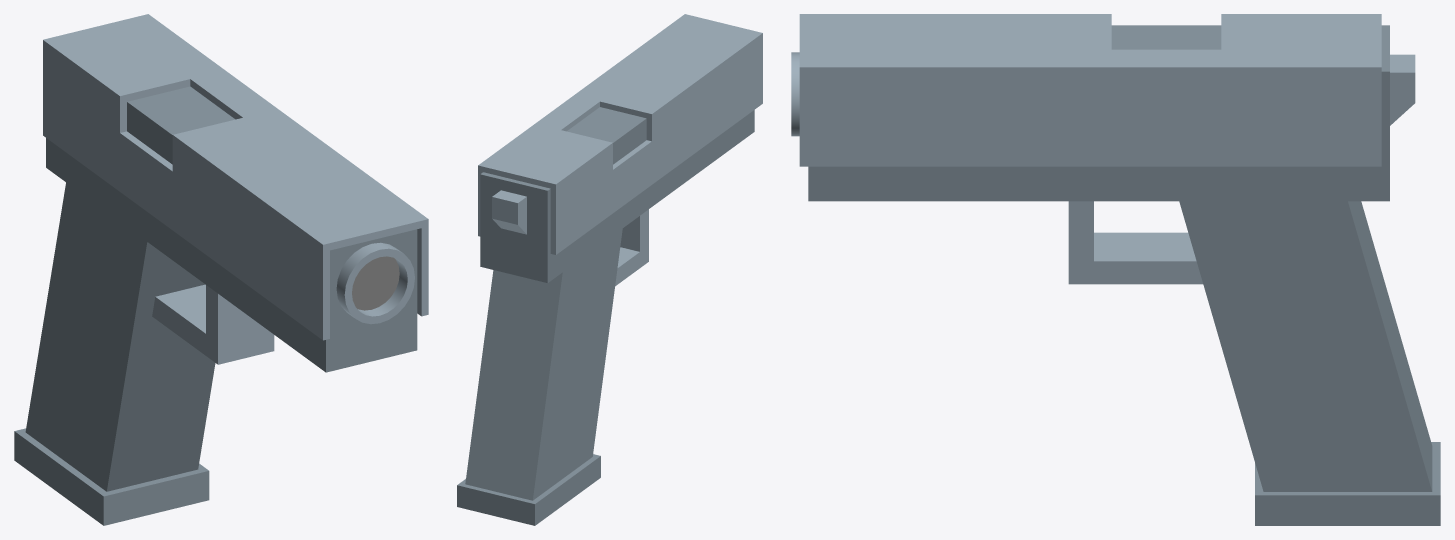
File: kenney-weapon-pistol.glb
The picture shows the model from 3 angles, left to right: view 1: azimuth 30°, elevation 25°; view 2: azimuth 150°, elevation 25°; view 3: azimuth 270°, elevation 25°; orthographic projection. The views are drawn at different scales.
Parts seen in each view (by area): view 1: Group (×2); view 2: Group (×2); view 3: Group (×2).
Boxes of the visible parts, left/top/right/bottom form: Group (×2): left=14, top=14, right=428, bottom=525; Group (×2): left=457, top=14, right=762, bottom=525; Group (×2): left=791, top=14, right=1440, bottom=525.
Bounding box in the file's own units: 0.0574 × 0.2297 × 0.2948.
